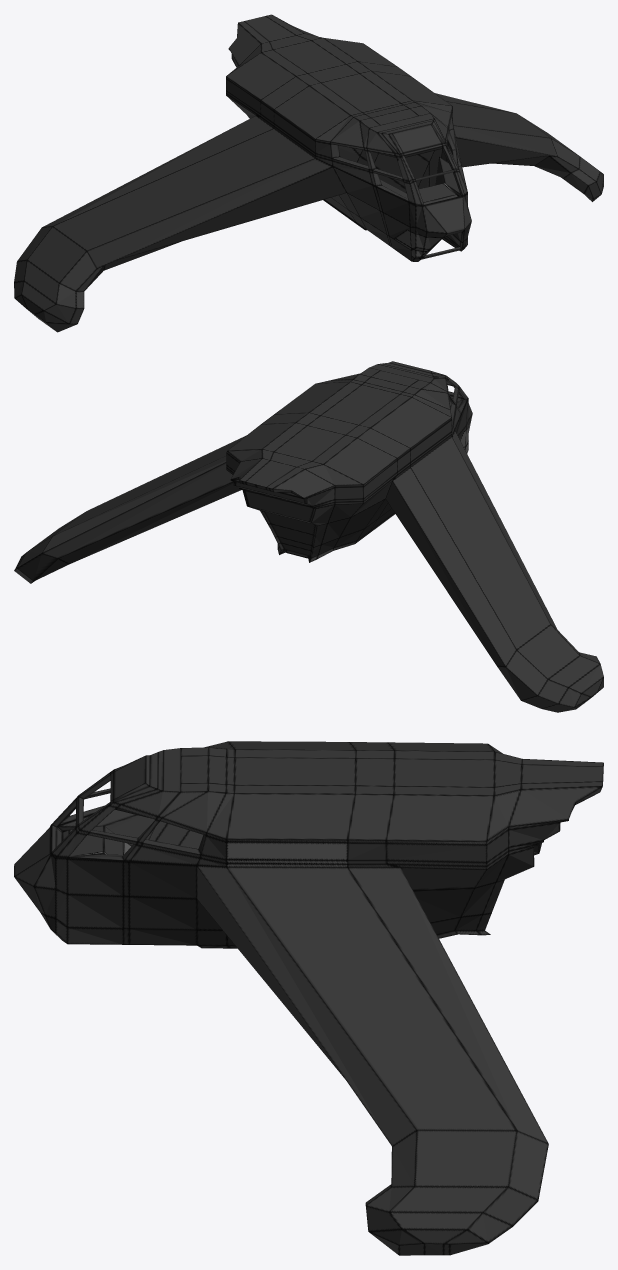
File: cockpitMk2e.obj
3 views of the same model, one above another, from view 1: azimuth 30°, elevation 25°; view 2: azimuth 150°, elevation 25°; view 3: azimuth 270°, elevation 25° (orthographic). The views are drawn at different scales.
Parts seen in each view (by area): view 1: Cube; view 2: Cube; view 3: Cube.
Boxes of the visible parts, <box> form: Cube: <box>14,14,603,332</box>; Cube: <box>14,361,603,712</box>; Cube: <box>14,741,603,1255</box>.
Size of the model in its own units: 20.06 by 6.88 by 12.44.
